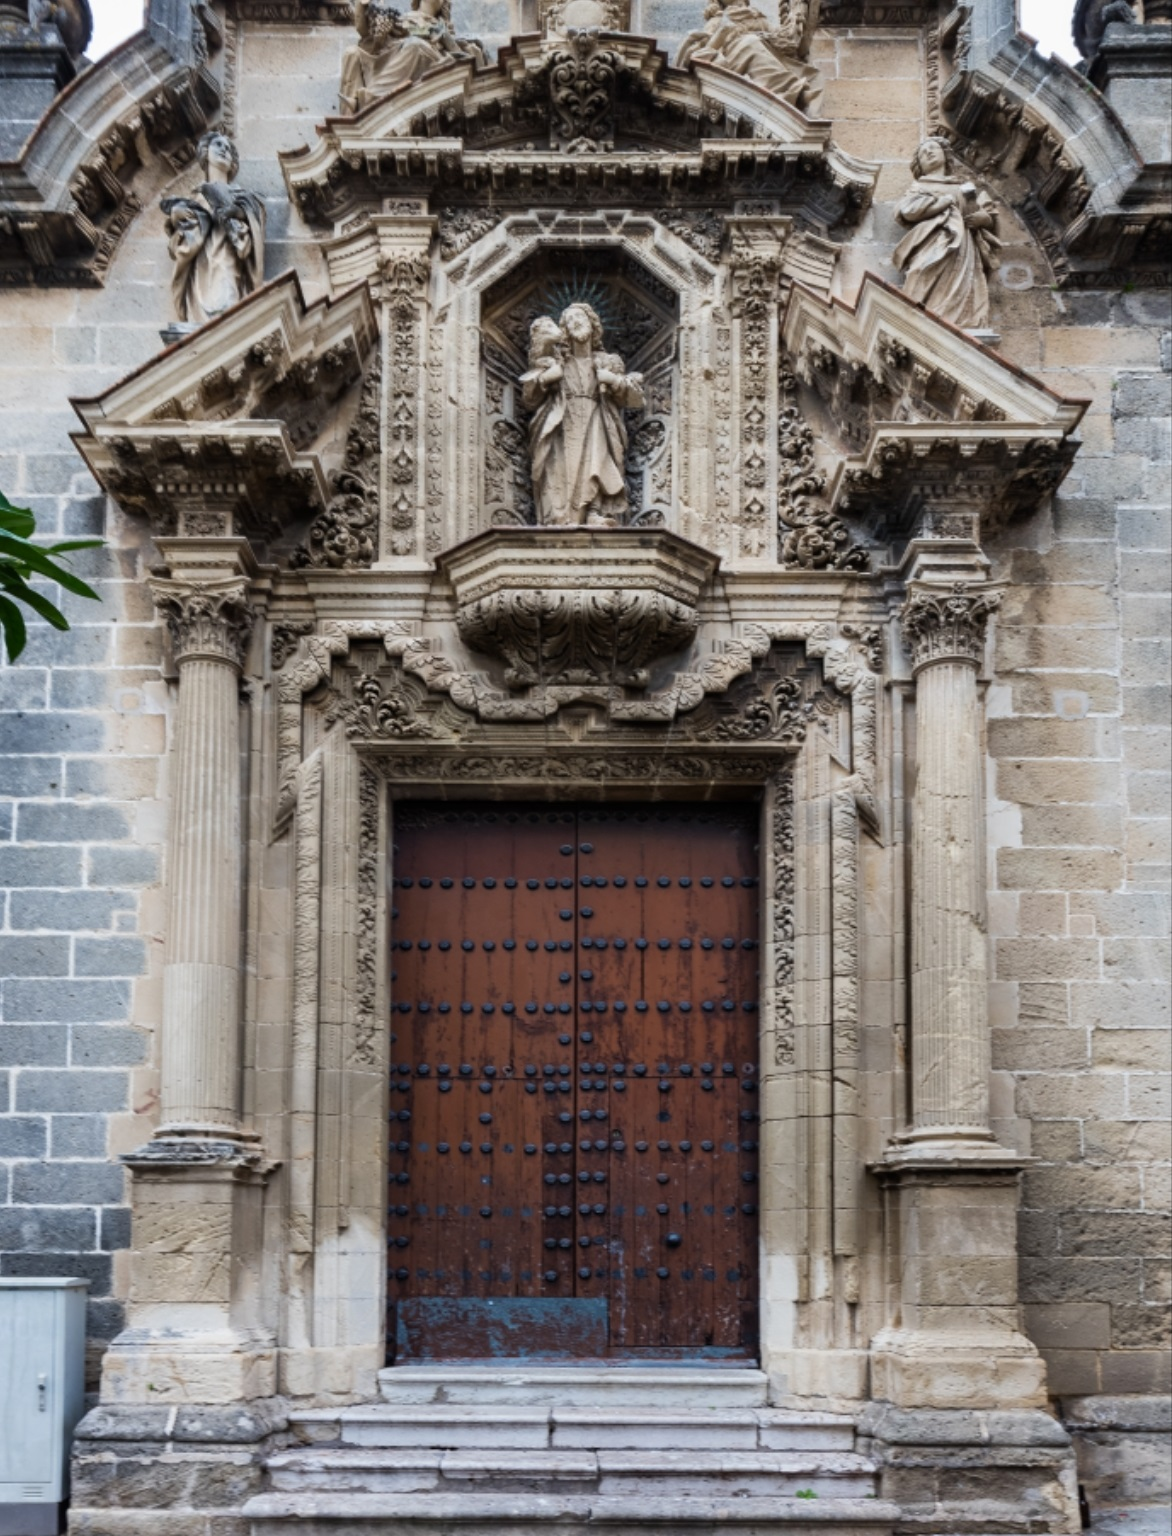fronton-partido: (76, 262, 1090, 473), (324, 47, 846, 176)
vano-adintelado: (339, 738, 817, 1378)
